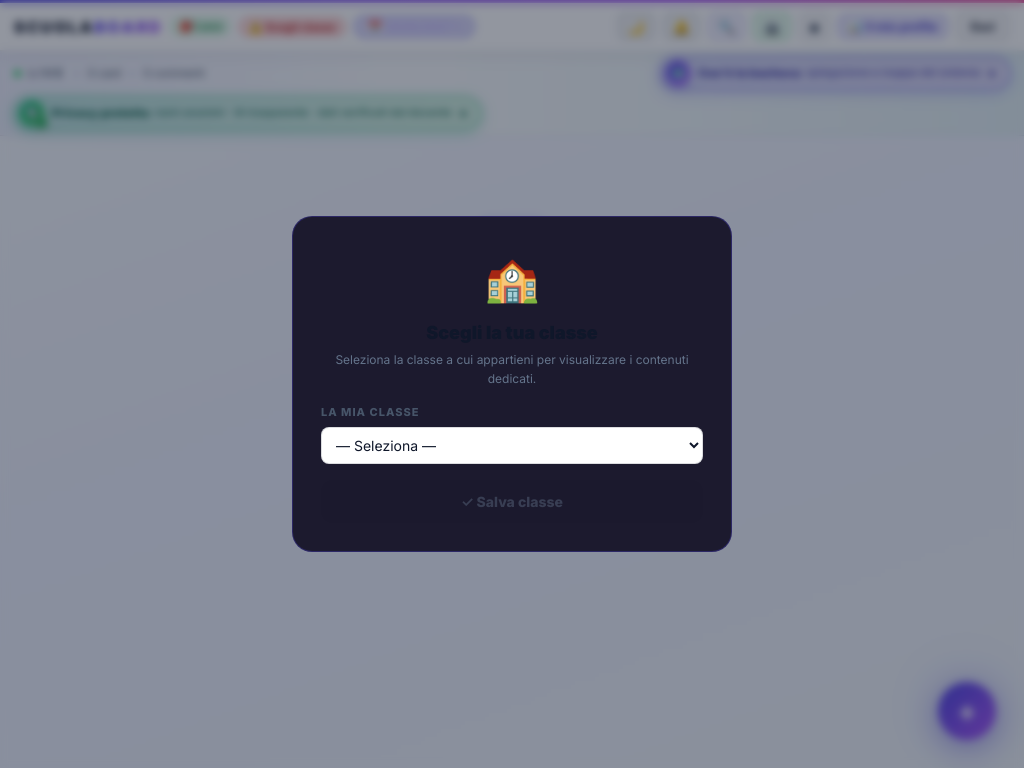
Test: Scelta classe studente (ClasseModal) › sceglie la classe → viene salvata su users/{uid} e la modale si chiude
Note: La modale "Scegli la tua classe" si apre da sola (privacy pre-accettata)
Select "3AI" in the dropdown named "Scegli la tua classe": coordinates (512, 445) [321, 427, 703, 464]
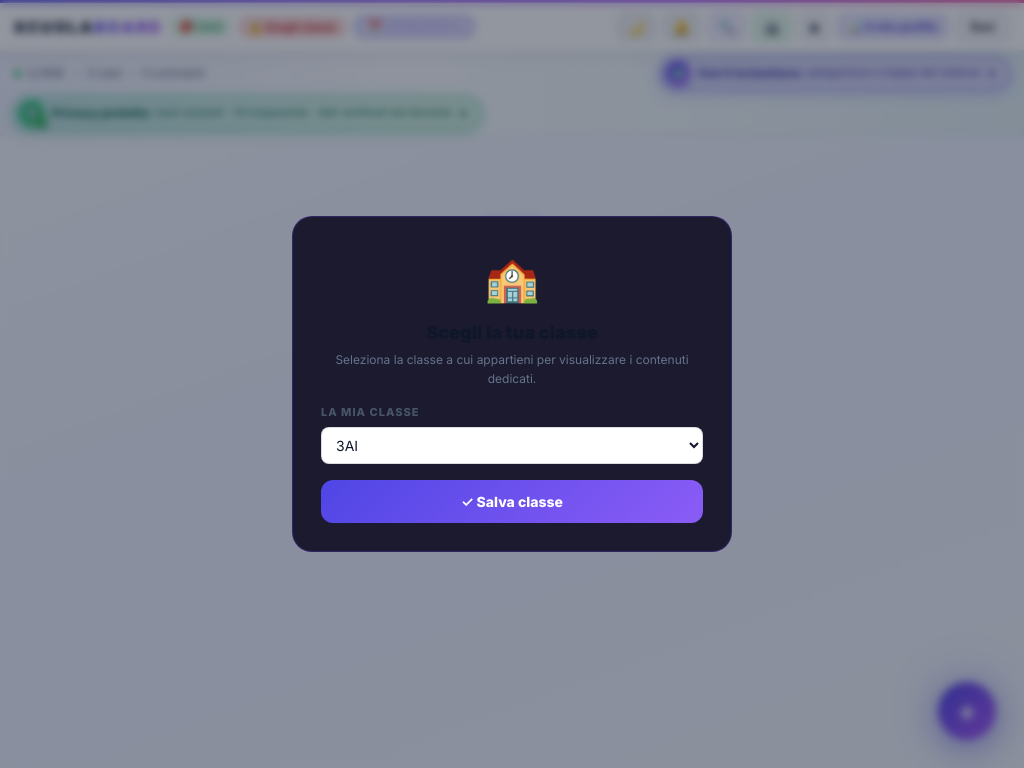
Now the button "✓ Salva classe" is enabled
Click the button "✓ Salva classe": coordinates (512, 501) [321, 480, 703, 523]
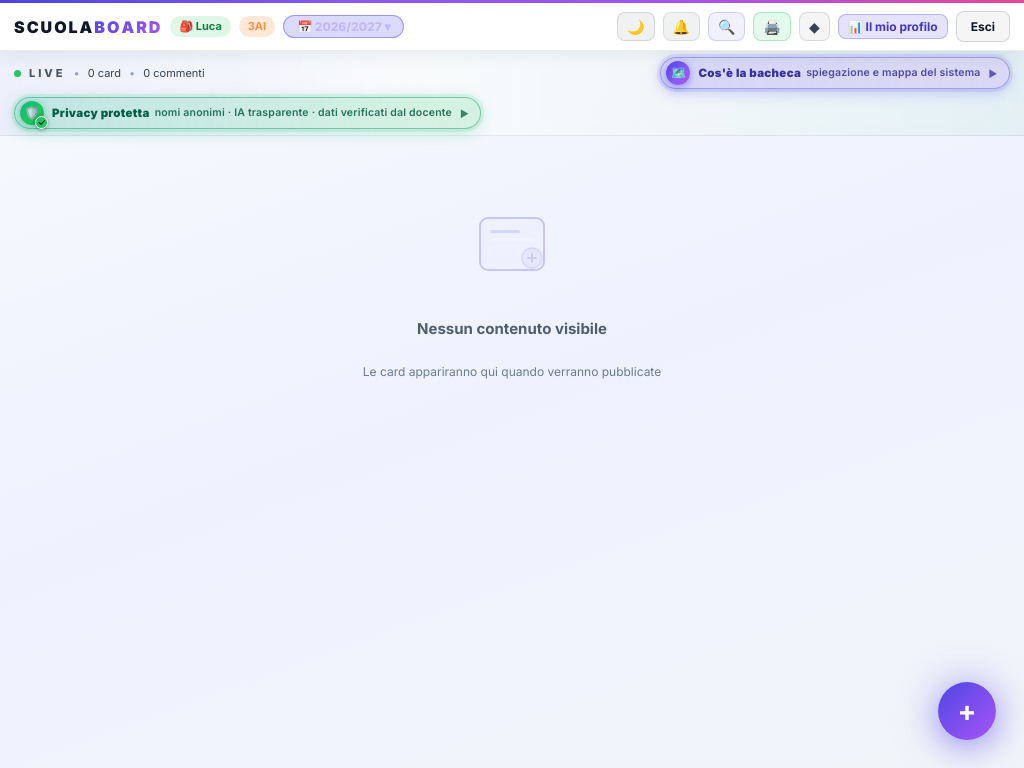
Now the text "3AI" is shown, box [239, 16, 275, 37]
Now the button "Salva classe" is gone
